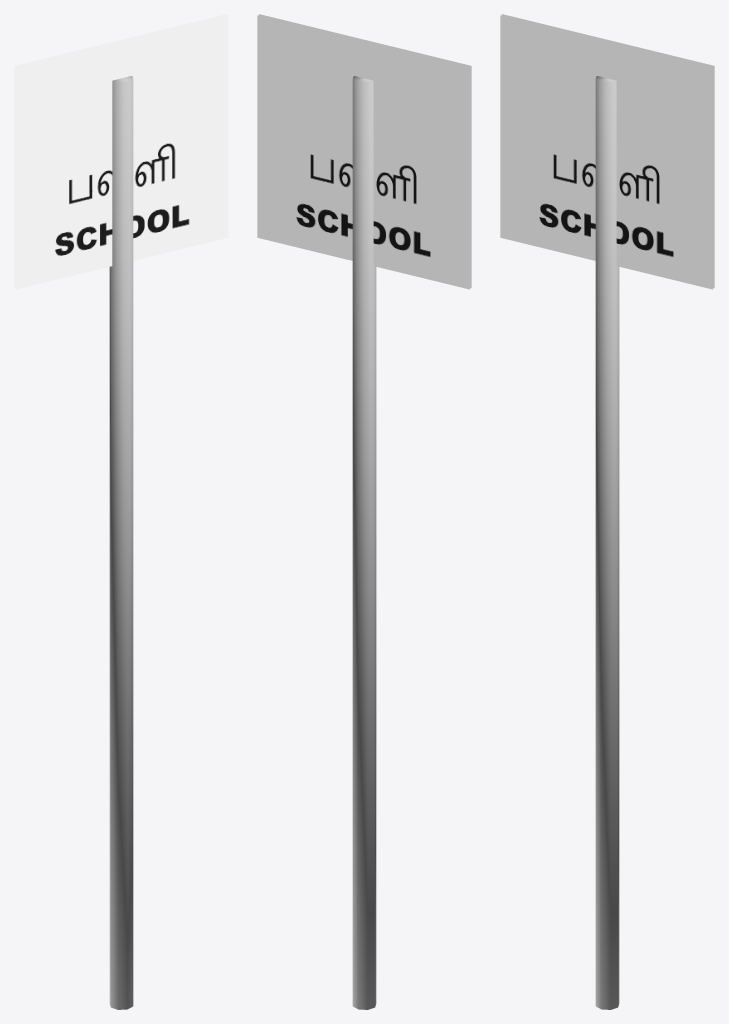
Rendered from life_school.glb.
3 views of the same model, side by side, from view 1: azimuth 30°, elevation 25°; view 2: azimuth 150°, elevation 25°; view 3: azimuth 330°, elevation 25° (orthographic).
Parts seen in each view (by area): view 1: Pole; view 2: Pole; view 3: Pole.
Boxes of the visible parts, left/top/right/bottom form: Pole: left=14, top=14, right=228, bottom=1009; Pole: left=257, top=14, right=471, bottom=1009; Pole: left=500, top=14, right=714, bottom=1009.
Size of the model in its own units: 0.6 by 2.6 by 0.06.
Materials: 2 (1 with a texture image).
